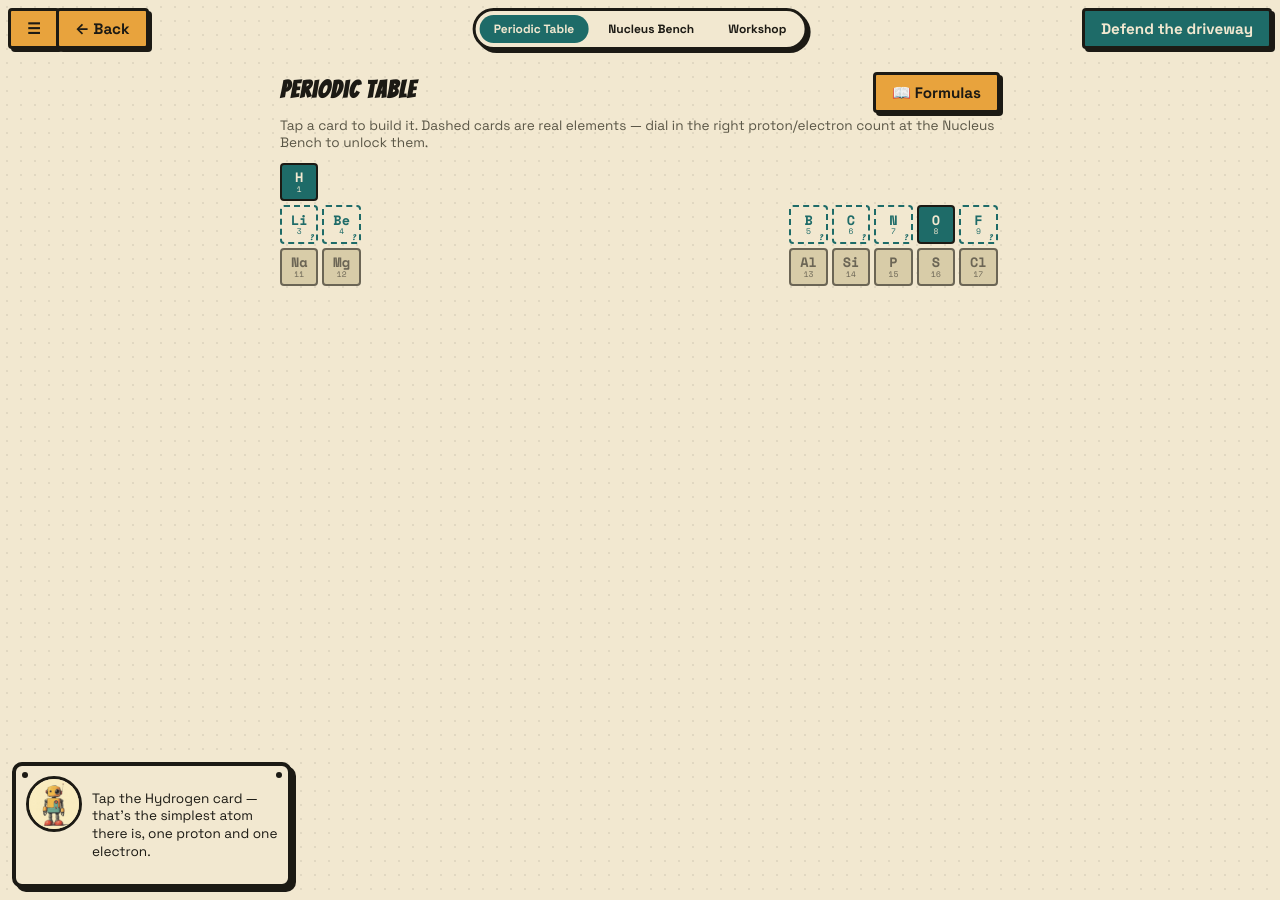
Test case: tapping an undiscovered periodic table card jumps to the Nucleus Bench with the dial pre-aimed
Click the button titled "Carbon": [851, 225] box [832,205,870,244]
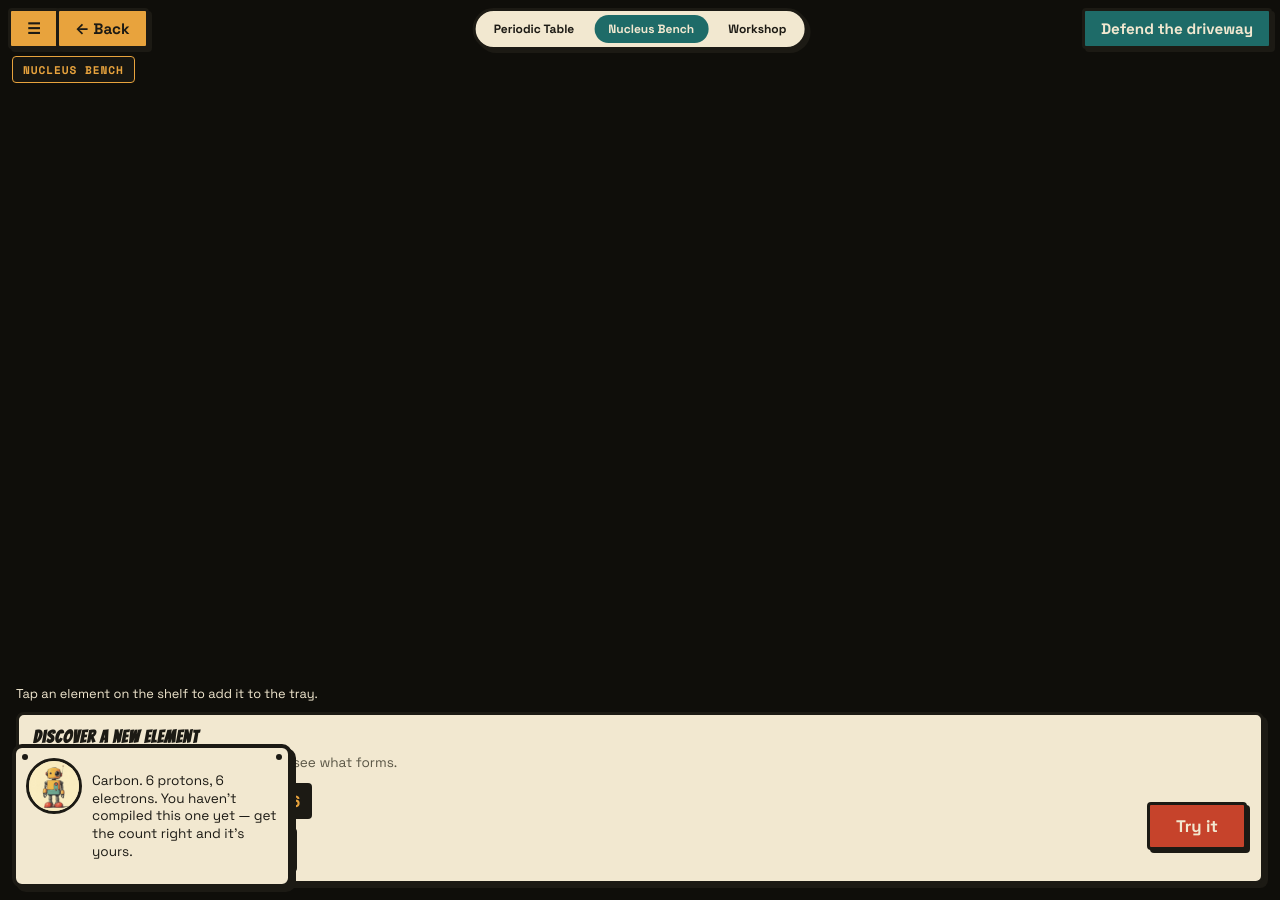
expect the text "Protons: 6" is shown: met, box [33,783,155,819]
